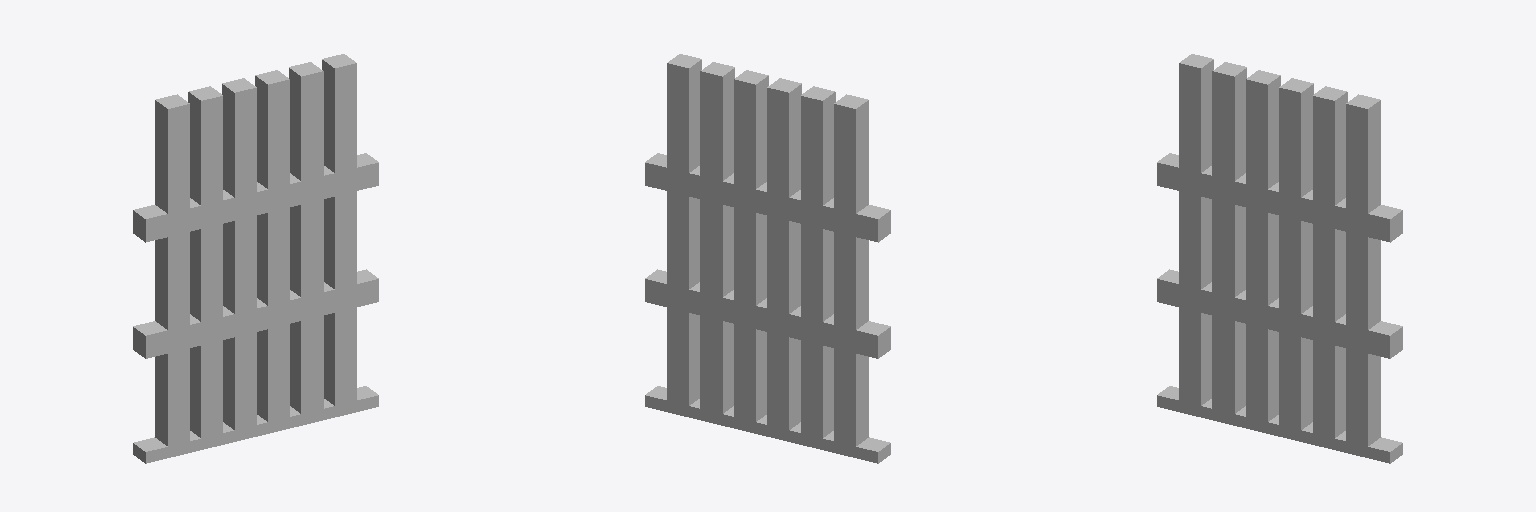
The model's file is Vine Fence.obj.
3 renders of one model, left to right at view 1: azimuth 30°, elevation 25°; view 2: azimuth 150°, elevation 25°; view 3: azimuth 330°, elevation 25°, orthographic.
Parts seen in each view (by area): view 1: object 1; view 2: object 1; view 3: object 1.
Boxes of the visible parts, x1,y1,x2,y2 form: object 1: [133, 54, 378, 463]; object 1: [645, 54, 890, 463]; object 1: [1157, 54, 1402, 463].
Size of the model in its own units: 2.1 by 3 by 0.2.